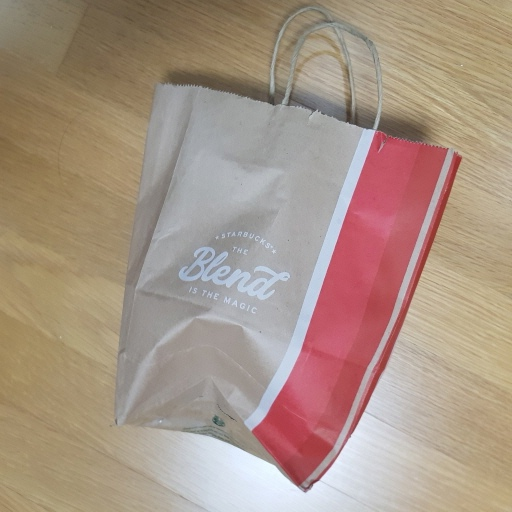Paper_0: (106, 70, 464, 493)
